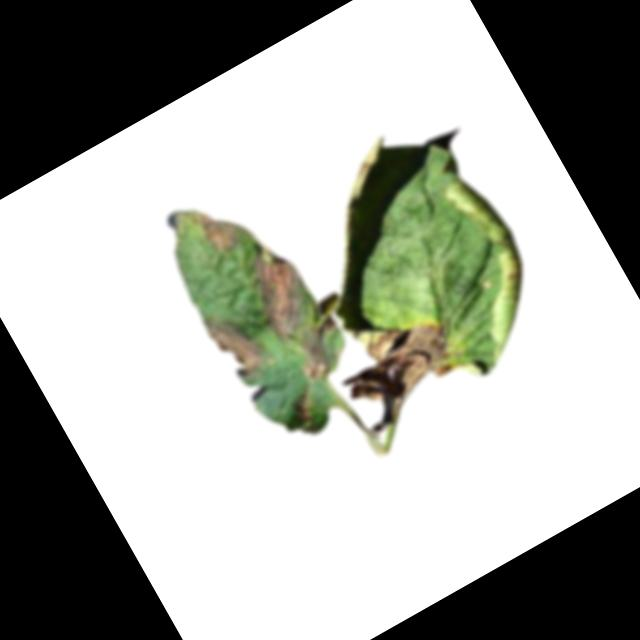Late_blight: (329, 299, 466, 418), (230, 232, 325, 345), (201, 302, 272, 385), (285, 313, 358, 387), (192, 194, 252, 256), (286, 384, 327, 427)
